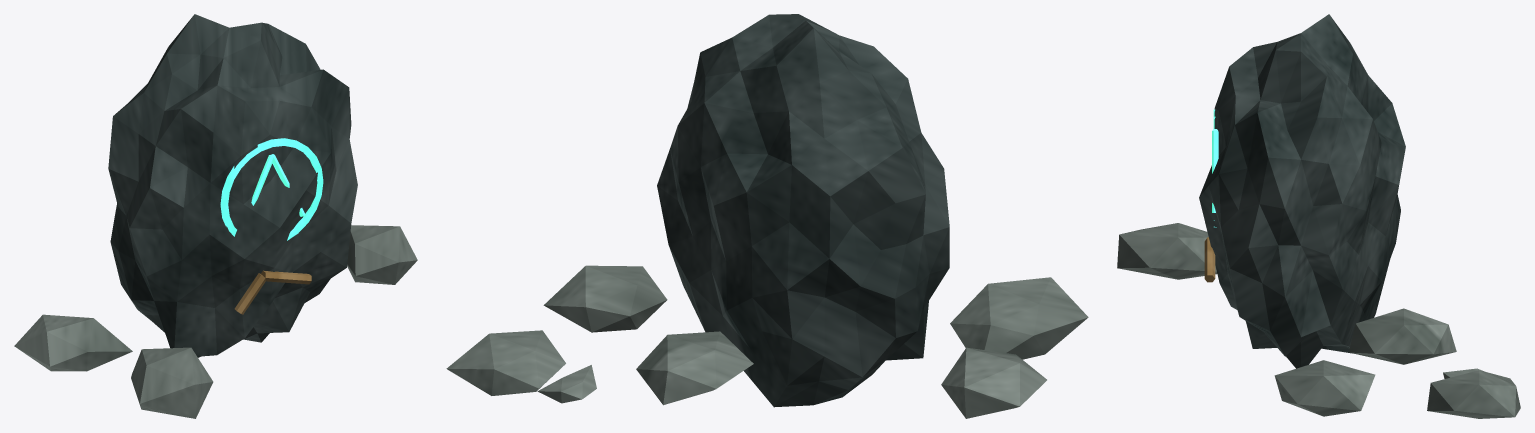
Rendered from 0654_waystone_04.glb.
3 renders of one model, left to right at view 1: azimuth 30°, elevation 25°; view 2: azimuth 150°, elevation 25°; view 3: azimuth 270°, elevation 25°, orthographic. The views are drawn at different scales.
Parts seen in each view (by area): view 1: stone_dark, stone, glow, brass; view 2: stone_dark, stone; view 3: stone_dark, stone, brass.
Boxes of the visible parts, x1=… form: stone_dark: x1=108, y1=14, x2=357, y2=357; stone: x1=14, y1=225, x2=417, y2=418; glow: x1=220, y1=138, x2=323, y2=240; brass: x1=234, y1=270, x2=311, y2=314; stone_dark: x1=657, y1=14, x2=949, y2=407; stone: x1=446, y1=265, x2=1088, y2=418; stone_dark: x1=1199, y1=14, x2=1405, y2=368; stone: x1=1117, y1=223, x2=1520, y2=418; brass: x1=1204, y1=237, x2=1215, y2=282.
Size of the model in its own units: 1.78 by 1.38 by 1.5.
4 materials, 4 textured.
